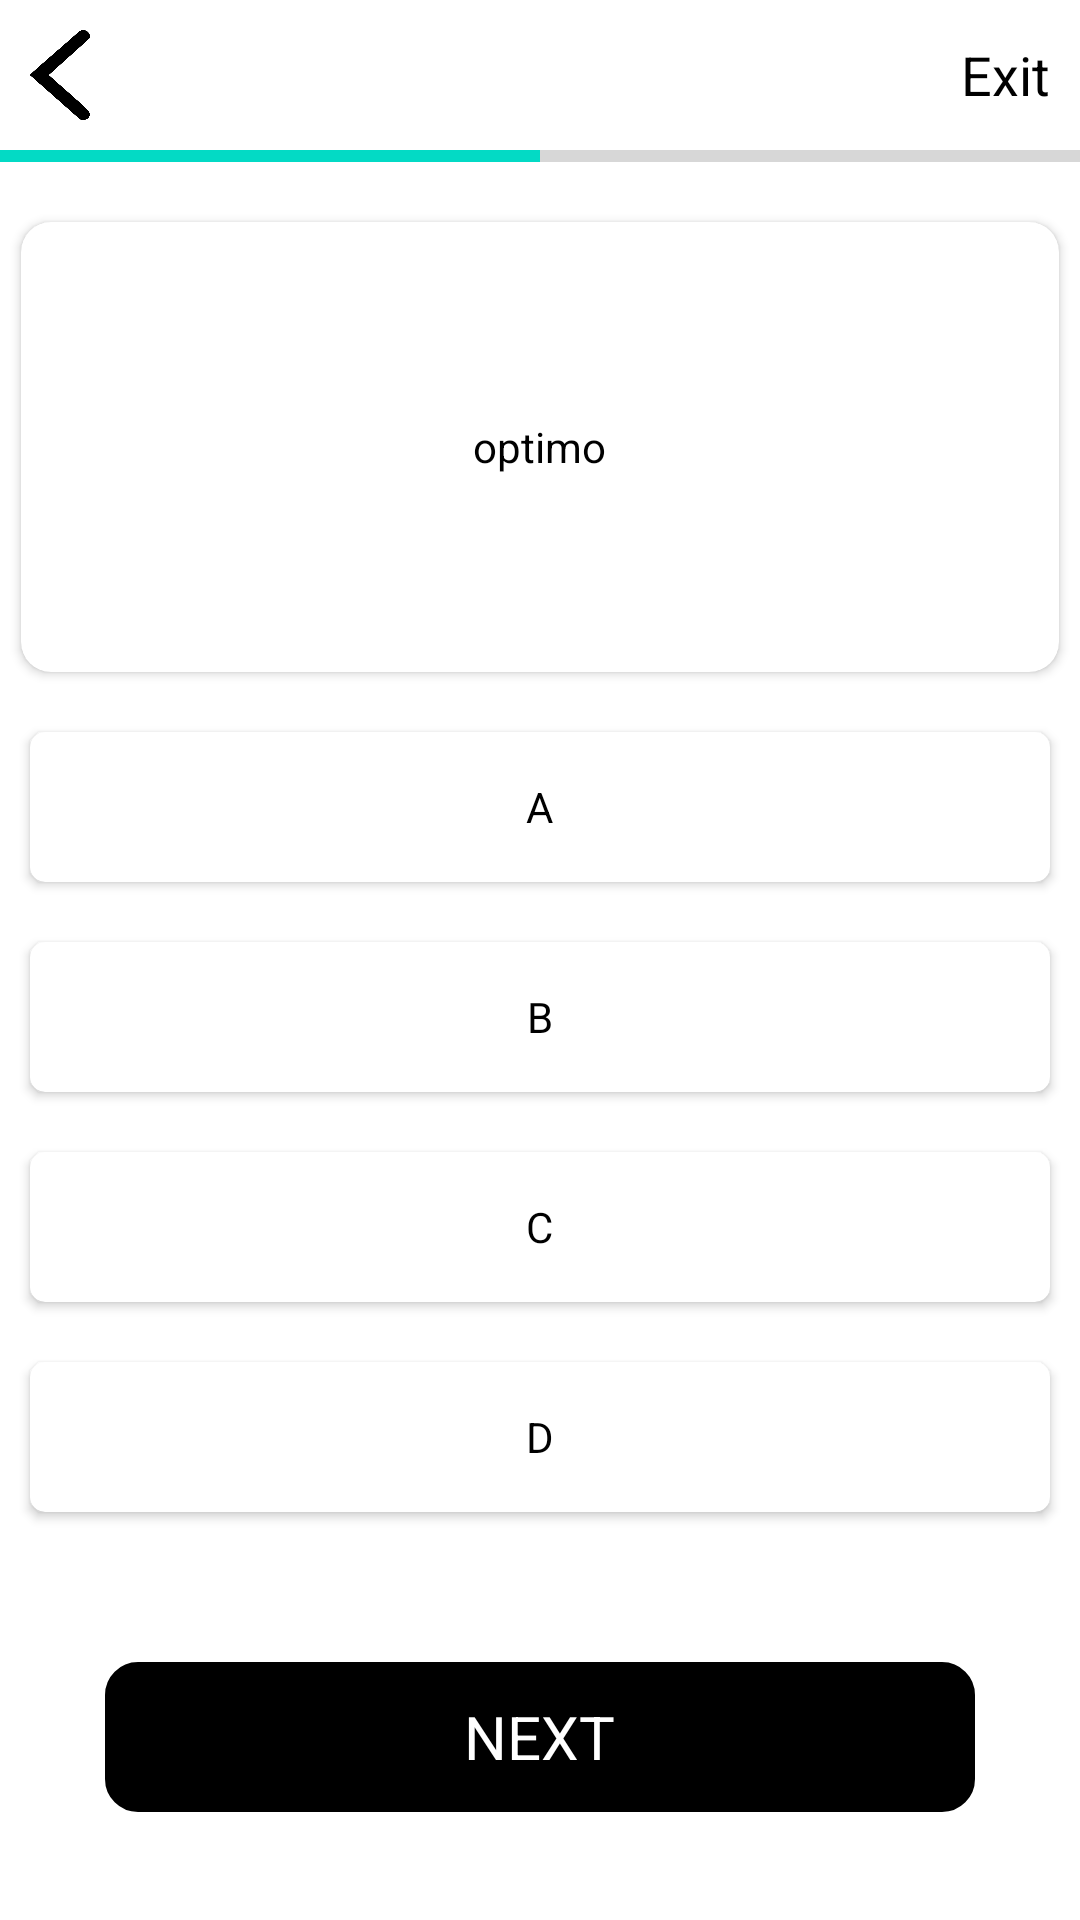

Icon bounding boxes for this 1080 x 1920 phone screenshot, format BBox(x1, y1, x2, y2):
backk: BBox(30, 30, 90, 120)
